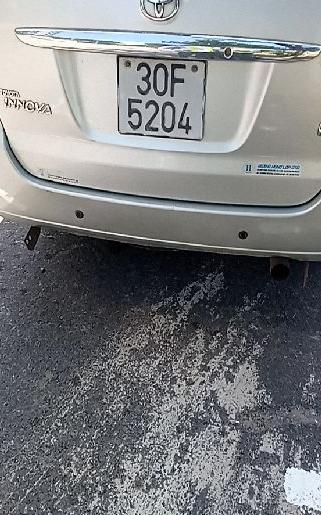Plate-iWeP: (114, 49, 209, 142)
